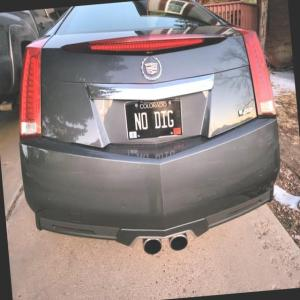Plate: (123, 97, 183, 141)
